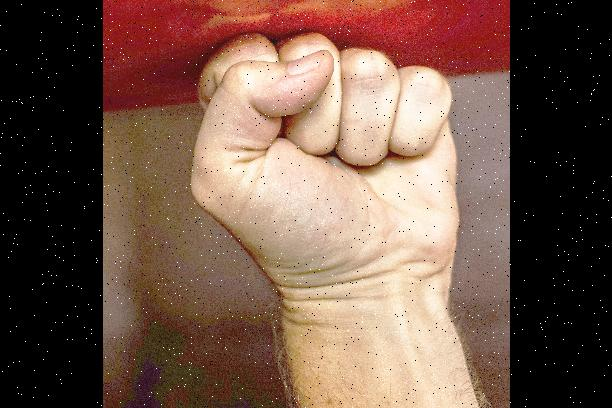Rock: (178, 24, 466, 292)
